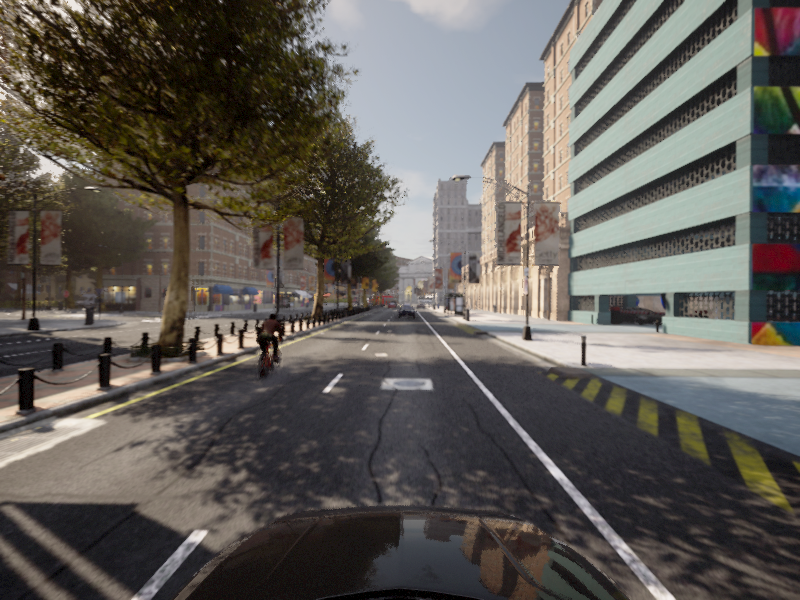vehicle: (246, 312, 291, 383), (398, 305, 415, 318)
